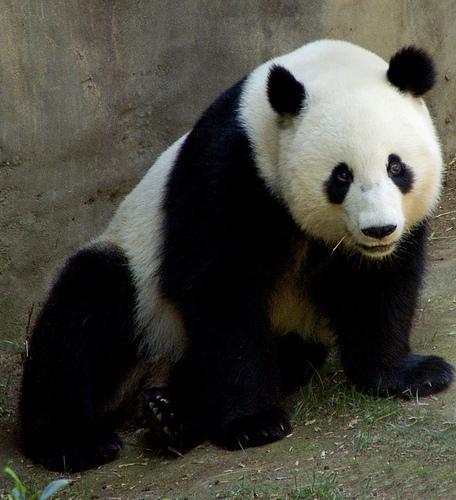panda: (20, 40, 453, 470)
